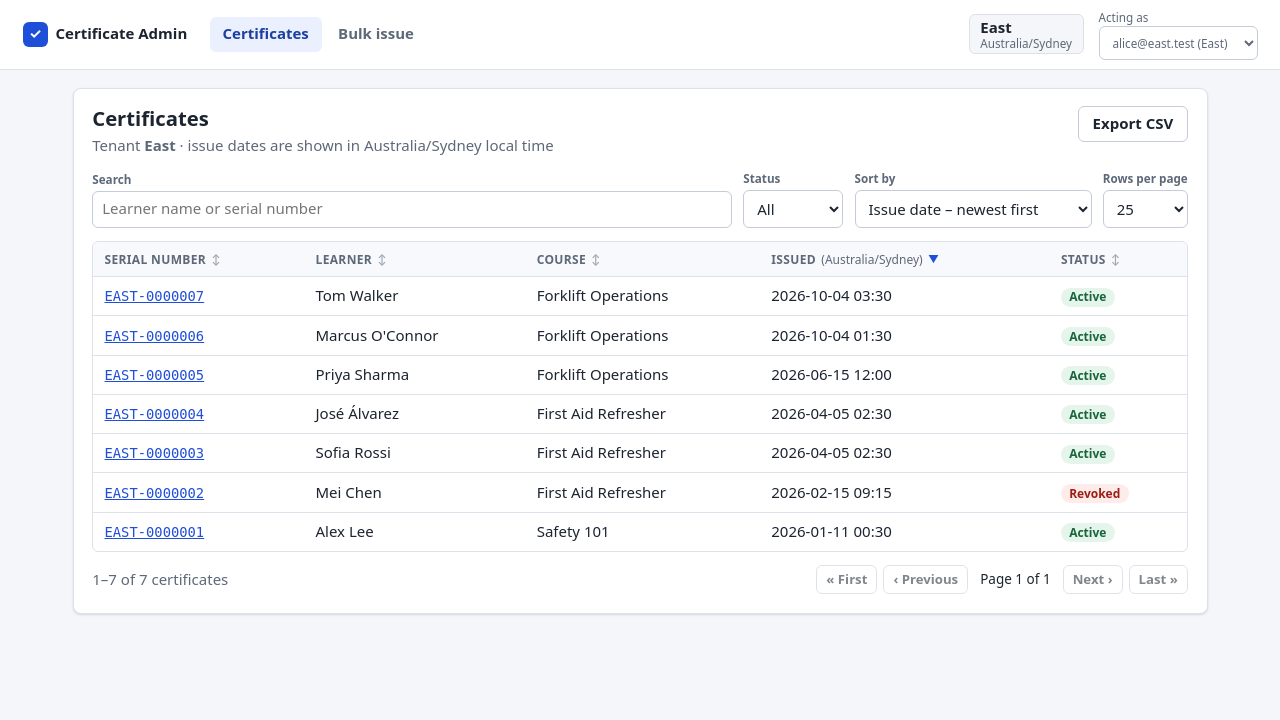
Test case: CSV export › downloads the file for the default view and reports it
This screenshot has width=1280, height=720.
Click the button with test id "export-button" at (1133, 124), box top-left (1078, 106), bottom-right (1188, 142)
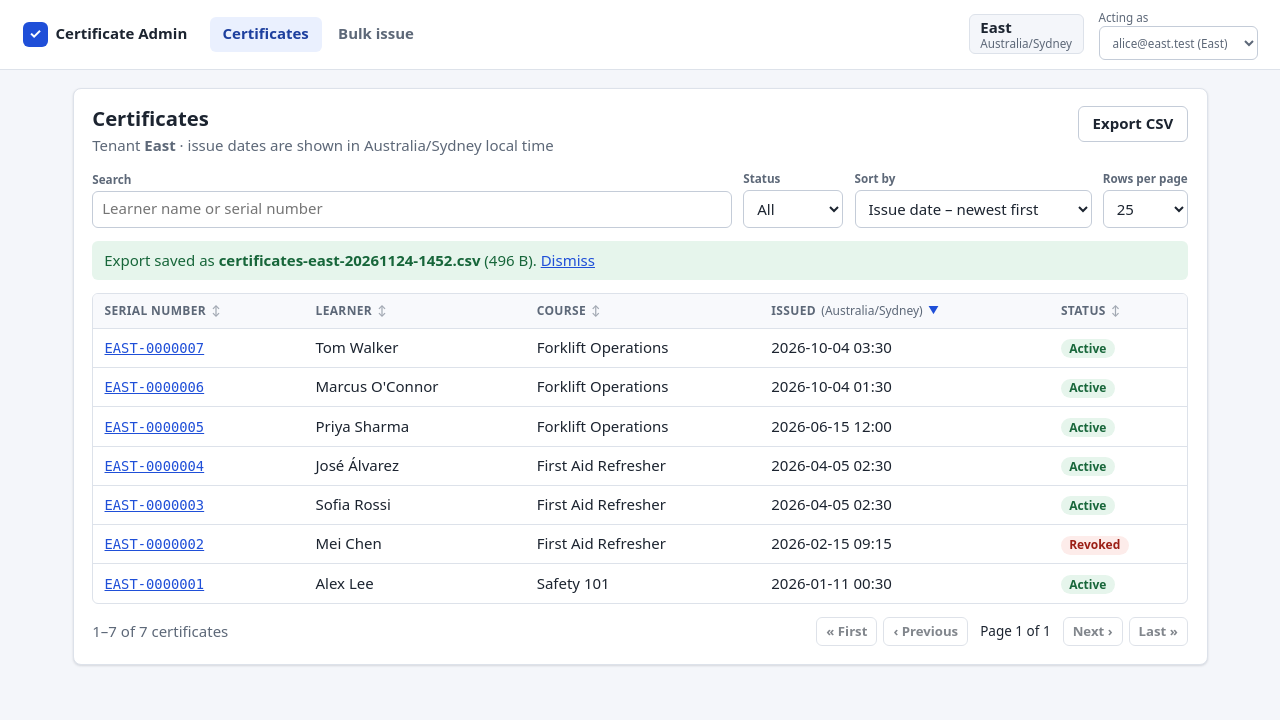
Now the text "certificates-east-20261124-1452.csv" is shown, box top-left (219, 250), bottom-right (480, 270)
Click the button "Dismiss" at (568, 260), box top-left (541, 250), bottom-right (595, 271)
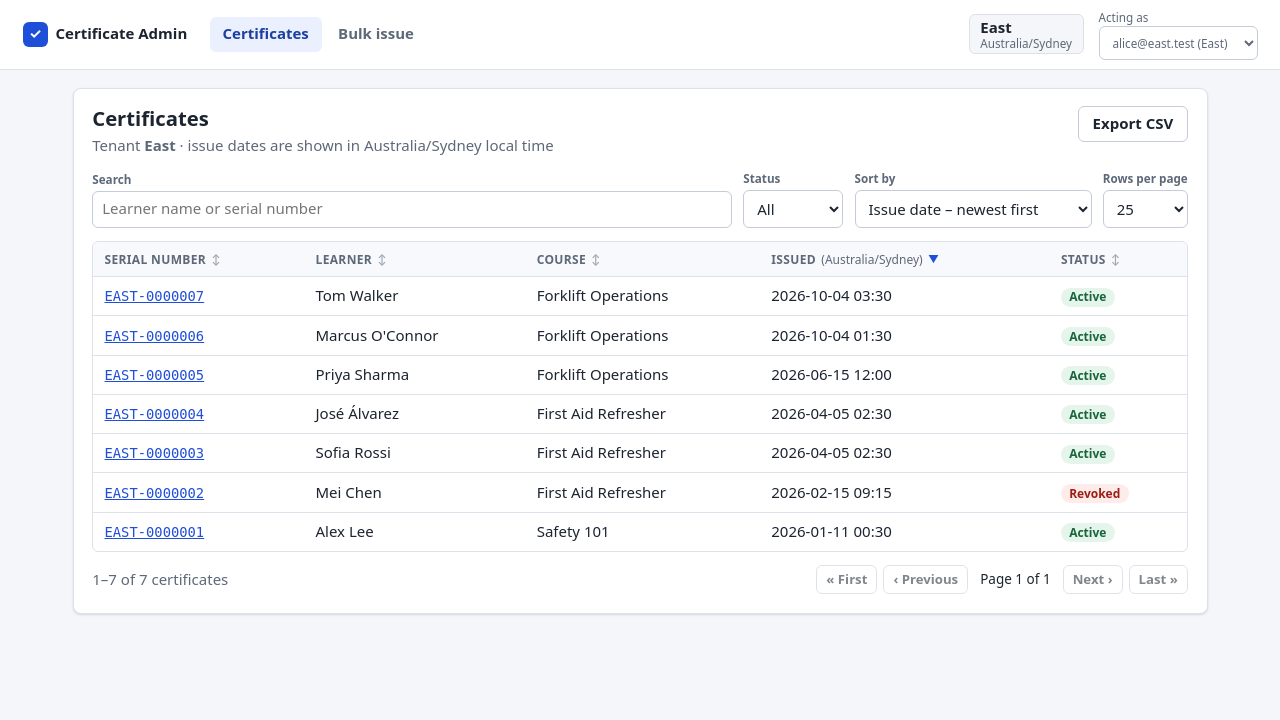
Now the element with test id "export-done" is gone
